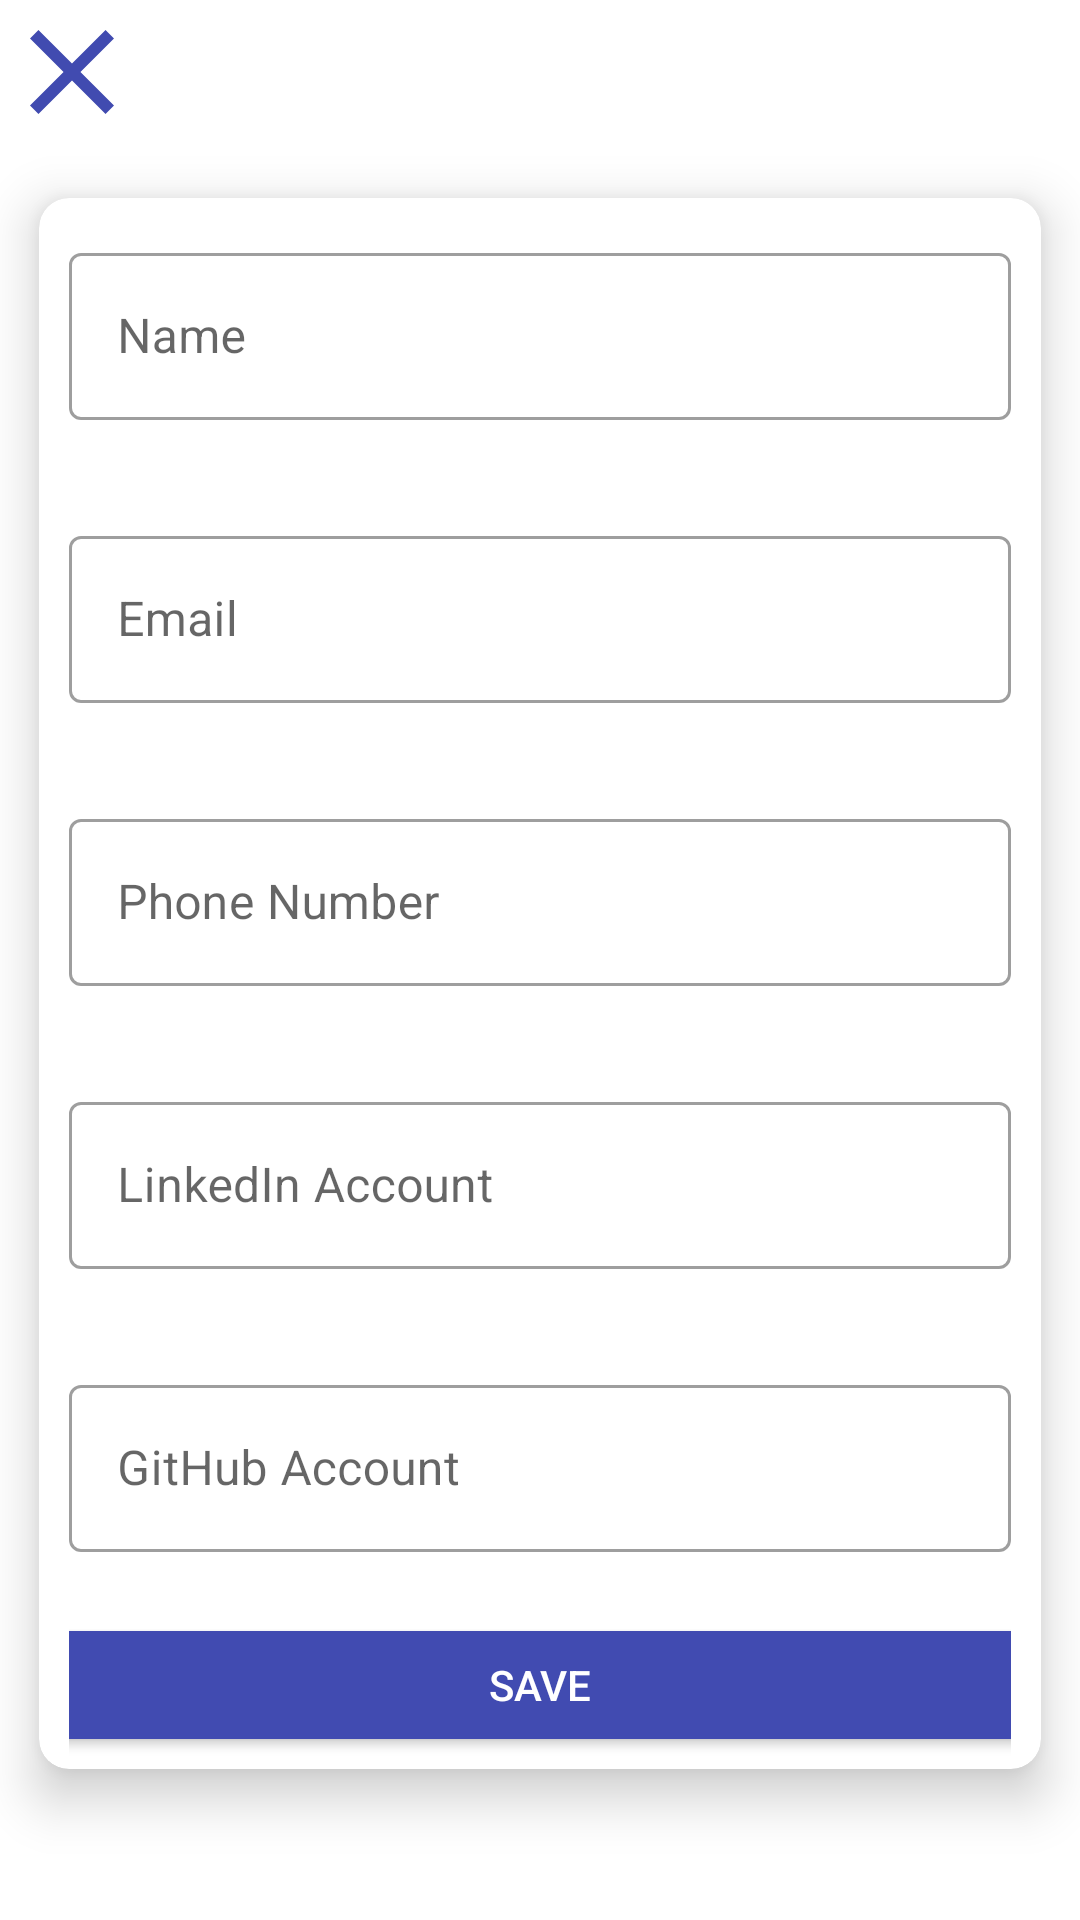

Named icons in this screenshot (1080×1920) and their centers, [x,y]:
close: [72,72]
